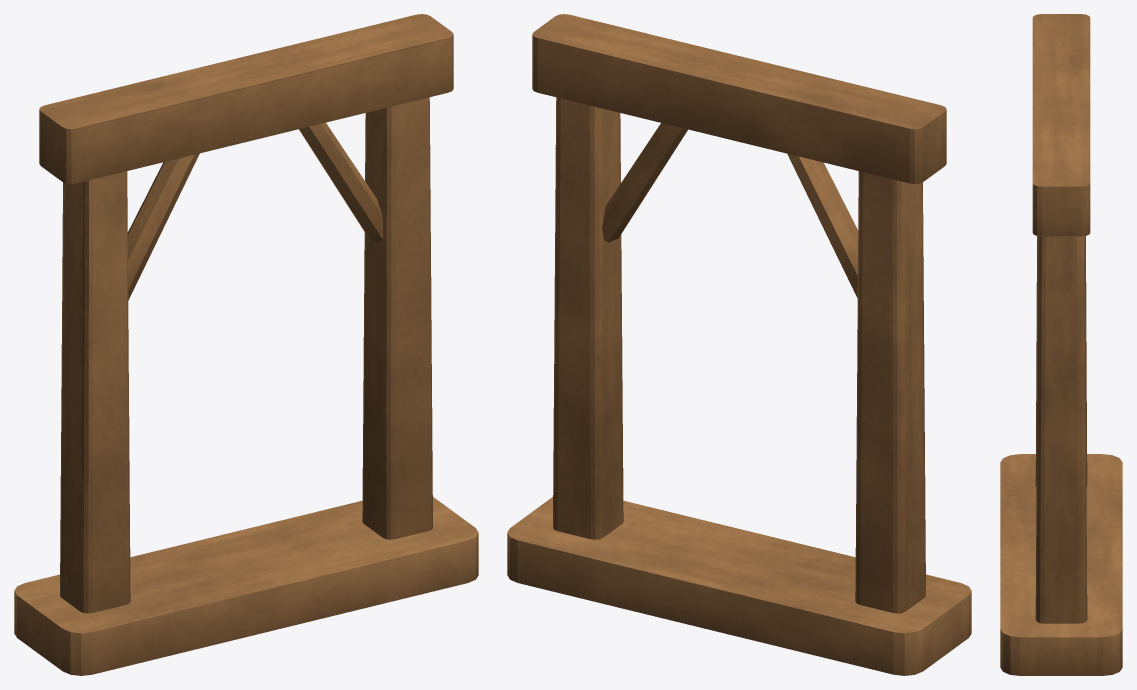
The model's file is bell_frame.glb.
The picture shows the model from 3 angles, left to right: view 1: azimuth 30°, elevation 25°; view 2: azimuth 150°, elevation 25°; view 3: azimuth 270°, elevation 25°; orthographic projection. The views are drawn at different scales.
Parts seen in each view (by area): view 1: Sill, Head, Post, Post.001, Brace, Brace.001; view 2: Sill, Head, Post, Post.001, Brace, Brace.001; view 3: Post.001, Sill, Head, Post.
Boxes of the visible parts, box(x1,y1,x2,y2) form: Sill: box(14, 497, 478, 675); Head: box(39, 14, 453, 183); Post: box(60, 171, 130, 613); Post.001: box(362, 97, 432, 539); Brace: box(127, 153, 199, 300); Brace.001: box(299, 122, 382, 241); Sill: box(507, 497, 971, 675); Head: box(532, 14, 946, 183); Post: box(855, 171, 925, 613); Post.001: box(553, 97, 623, 539); Brace: box(787, 153, 858, 297); Brace.001: box(602, 123, 687, 242); Post.001: box(1035, 236, 1087, 623); Sill: box(1000, 454, 1122, 675); Head: box(1032, 14, 1090, 236); Post: box(1035, 236, 1087, 486).
Size of the model in its own units: 1.42 by 1.75 by 0.4.
1 material, 1 textured.
